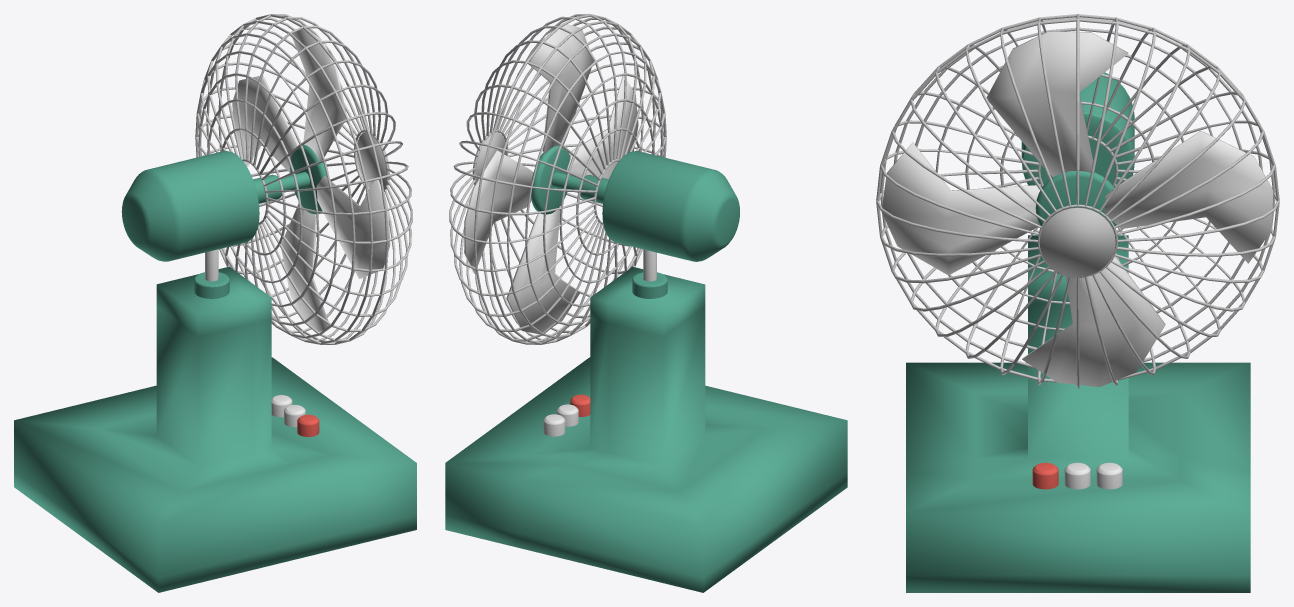
File: testquat.glb
3 renders of one model, left to right at view 1: azimuth 30°, elevation 25°; view 2: azimuth 150°, elevation 25°; view 3: azimuth 270°, elevation 25°, orthographic. The views are drawn at different scales.
Visible parts, largest first — view 1: Cube, Sphere, Cylinder.005, Plane.003, Plane, Plane.001, Plane.002, Cylinder.006, Cylinder.007, Cylinder.003; view 2: Cube, Sphere, Cylinder.005, Plane.002, Plane, Plane.001, Plane.003, Cylinder.006, Cylinder.003, Cylinder.007; view 3: Cube, Sphere, Plane.001, Plane, Plane.003, Plane.002, Cylinder.007, Cylinder.005, Cylinder.006, Cylinder, Cylinder.001, Cylinder.002.
Part boxes in pixels (<box>): Cube: <box>14,266,416,592</box>; Sphere: <box>195,14,412,344</box>; Cylinder.005: <box>121,150,309,261</box>; Plane.003: <box>316,176,390,278</box>; Plane: <box>292,28,345,160</box>; Plane.001: <box>232,75,298,172</box>; Plane.002: <box>281,203,329,331</box>; Cylinder.006: <box>290,144,326,214</box>; Cylinder.007: <box>356,132,389,188</box>; Cylinder.003: <box>194,272,229,298</box>; Cube: <box>445,266,847,592</box>; Sphere: <box>449,14,666,344</box>; Cylinder.005: <box>552,151,739,261</box>; Plane.002: <box>506,207,580,333</box>; Plane: <box>529,23,593,153</box>; Plane.001: <box>464,150,533,273</box>; Plane.003: <box>567,76,638,179</box>; Cylinder.006: <box>531,145,570,214</box>; Cylinder.003: <box>632,272,667,298</box>; Cylinder.007: <box>472,132,505,184</box>; Cube: <box>906,235,1250,592</box>; Sphere: <box>876,14,1279,388</box>; Plane.001: <box>1104,131,1273,263</box>; Plane: <box>986,31,1128,177</box>; Plane.003: <box>881,142,1039,275</box>; Plane.002: <box>1022,256,1165,386</box>; Cylinder.007: <box>1039,207,1115,277</box>; Cylinder.005: <box>1021,72,1134,187</box>; Cylinder.006: <box>1035,170,1116,228</box>; Cylinder: <box>1032,462,1058,489</box>; Cylinder.001: <box>1064,462,1090,489</box>; Cylinder.002: <box>1096,462,1122,489</box>.
Bounding box in the file's own units: 2.59 × 3.97 × 2.64.
